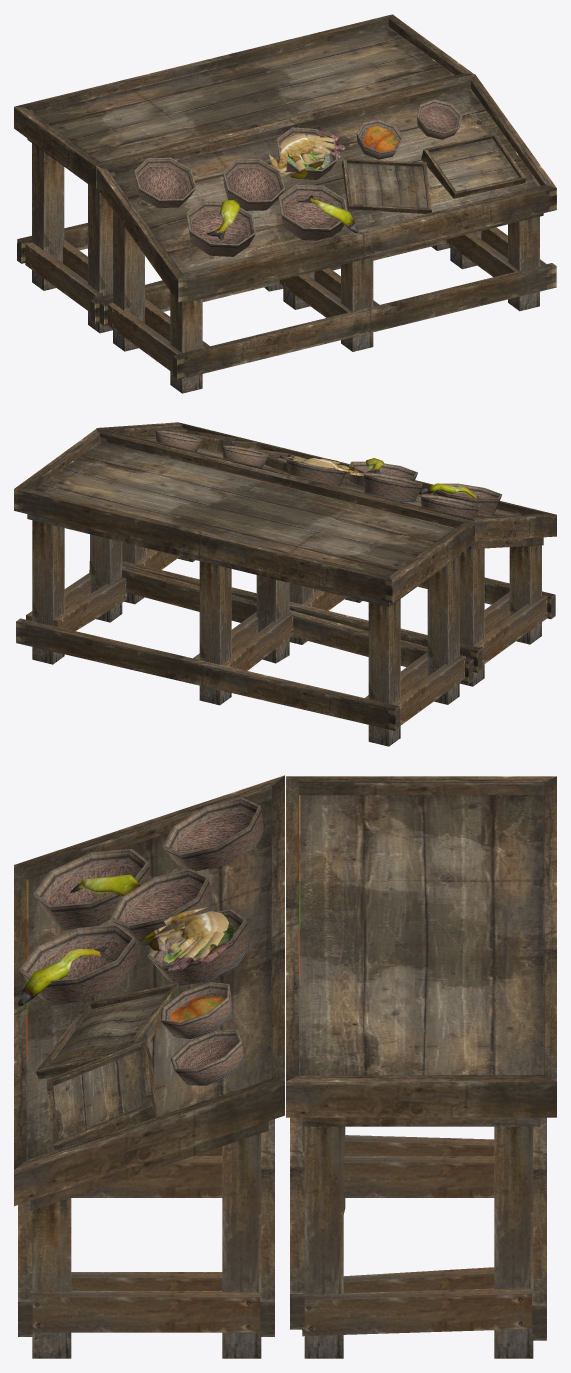
The model's file is shop6.fbx.
3 renders of one model, top to bottom at view 1: azimuth 30°, elevation 25°; view 2: azimuth 150°, elevation 25°; view 3: azimuth 270°, elevation 25°, orthographic. The views are drawn at different scales.
Visible parts, largest first — view 1: LV_M5_Port_FishingMarket02A_SM_HSH; view 2: LV_M5_Port_FishingMarket02A_SM_HSH; view 3: LV_M5_Port_FishingMarket02A_SM_HSH.
Part boxes in pixels (x1,y1,x2,y2): LV_M5_Port_FishingMarket02A_SM_HSH: (14, 14, 556, 393); LV_M5_Port_FishingMarket02A_SM_HSH: (14, 422, 556, 746); LV_M5_Port_FishingMarket02A_SM_HSH: (14, 775, 556, 1358).
Bounding box in the file's own units: 0.4457 × 0.198 × 0.3339.
1 material, 1 textured.
